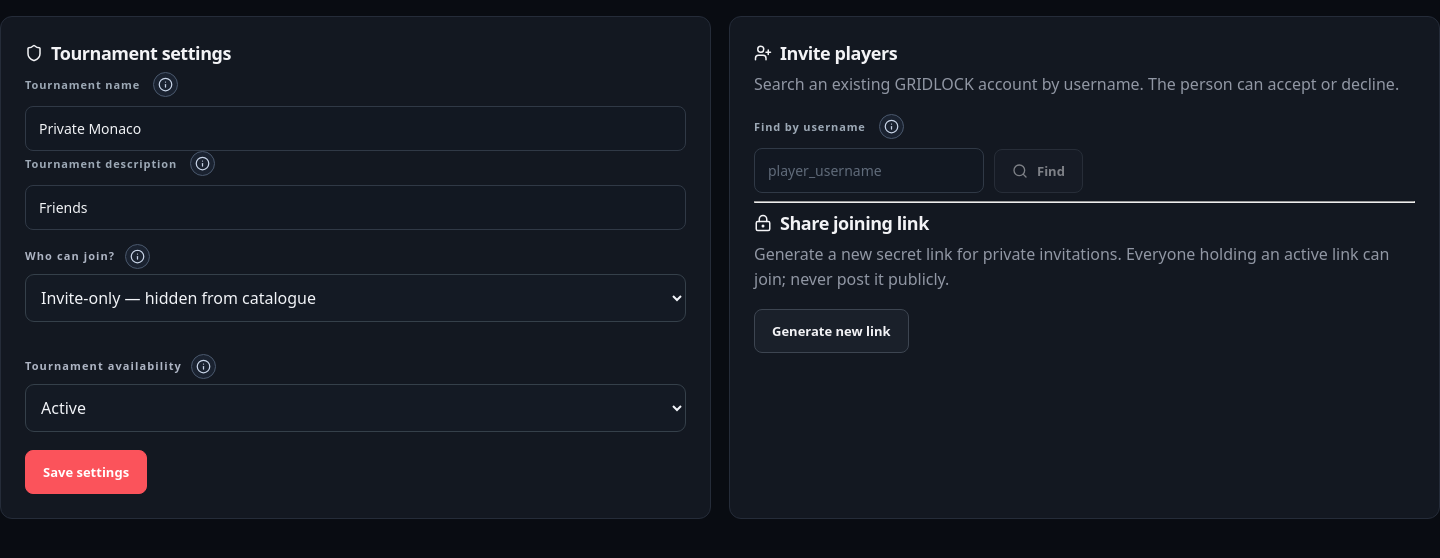
Test case: generates a joining link and invalidates the previous secret
Click the button "Generate new link": (831, 331) [754, 309, 908, 353]
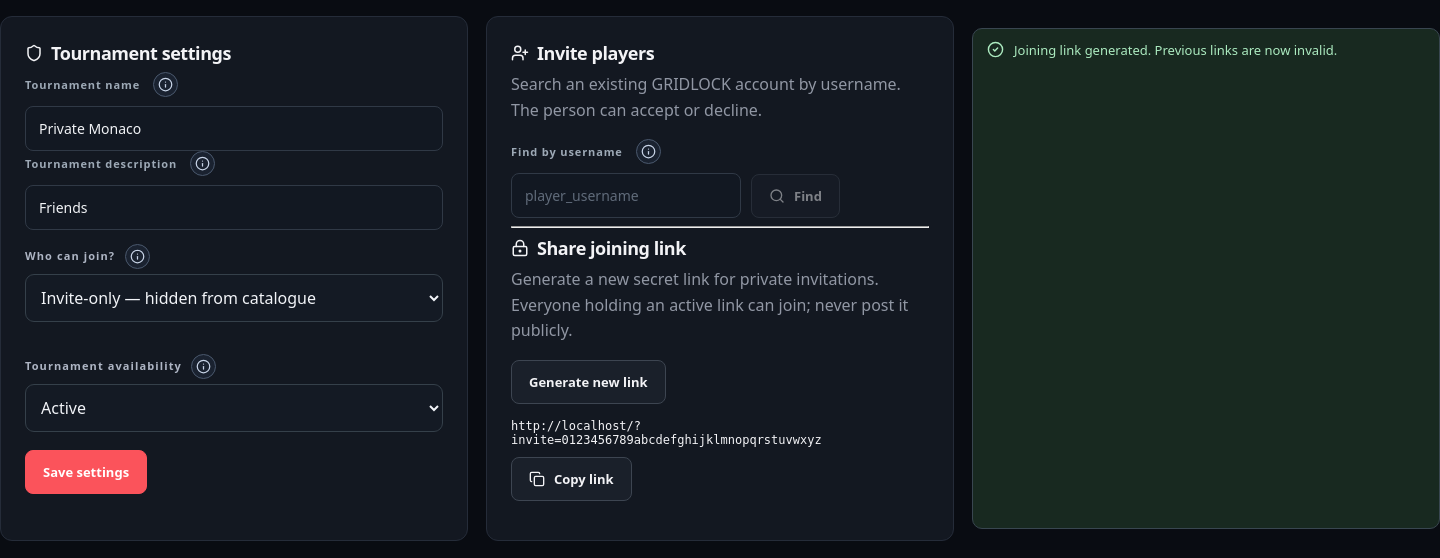
Expected: the text "invite=0123456789" is shown, [511, 419, 822, 447]
